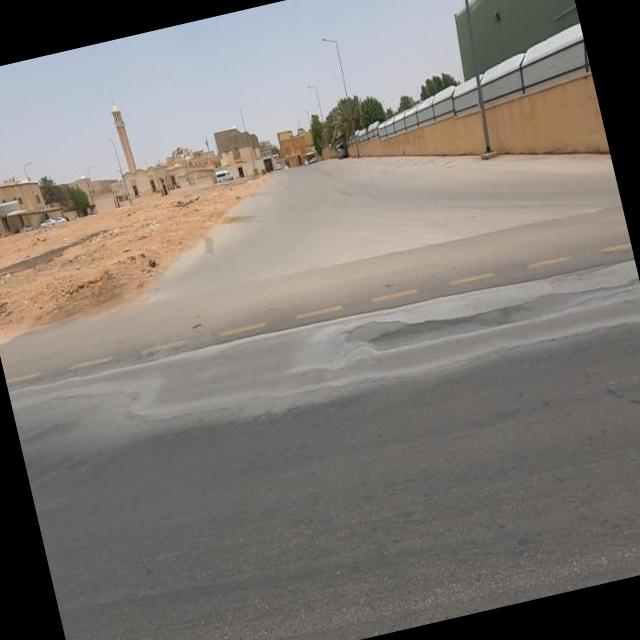debris: (122, 204, 182, 247), (92, 204, 132, 254)
